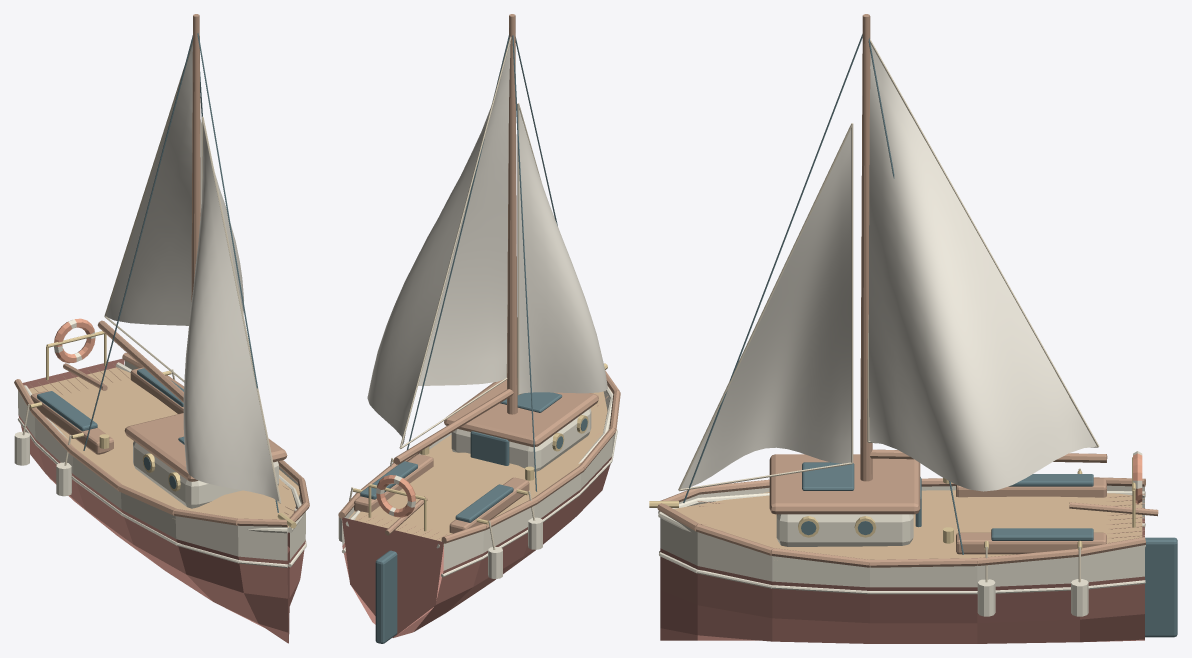
The model's file is SailboatRefined.fbx.
3 views of the same model, side by side, from view 1: azimuth 30°, elevation 25°; view 2: azimuth 150°, elevation 25°; view 3: azimuth 270°, elevation 25° (orthographic). The views are drawn at different scales.
Visible parts, largest first — view 1: Rigid, Jib, Mainsail; view 2: Rigid, Mainsail, Jib; view 3: Rigid, Mainsail, Jib.
Part boxes in pixels (x1,y1,x2,y2): Rigid: [14, 14, 309, 643]; Jib: [183, 124, 278, 500]; Mainsail: [106, 45, 243, 325]; Rigid: [338, 14, 620, 643]; Mainsail: [367, 42, 510, 445]; Jib: [519, 110, 607, 393]; Rigid: [649, 14, 1177, 643]; Mainsail: [869, 44, 1096, 491]; Jib: [681, 129, 851, 488].
Bounding box in the file's own units: 2.49 × 7.4 × 5.67.
